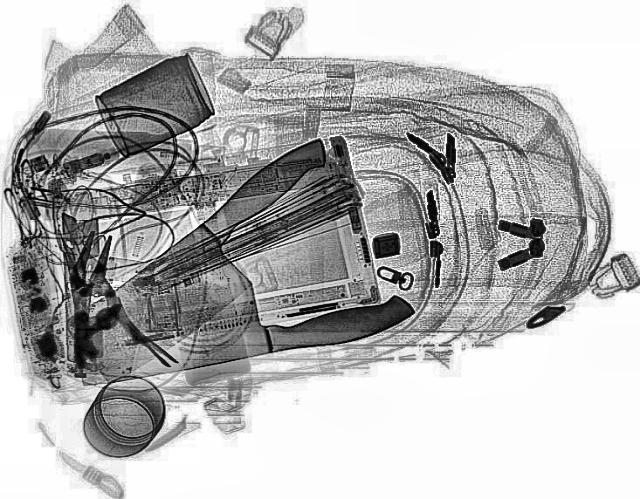Gun: (43, 132, 387, 385), (53, 249, 420, 395)
